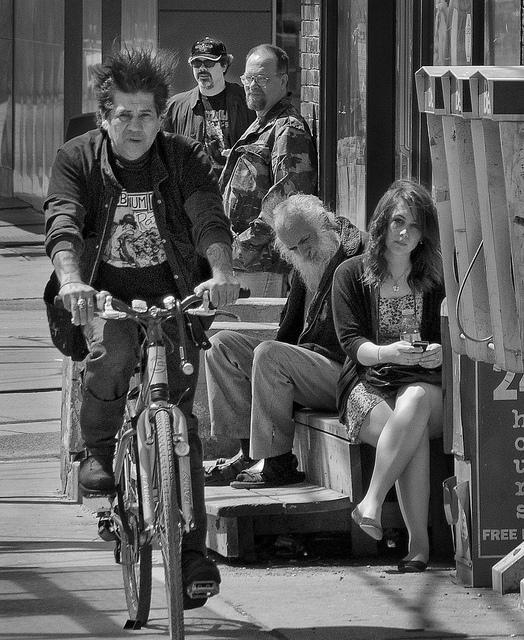bicycle: (55, 288, 203, 634), (114, 361, 161, 624)
